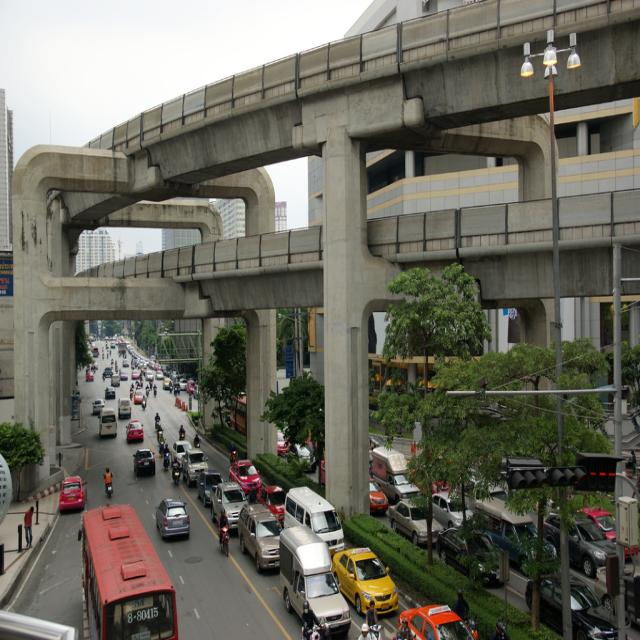car: (155, 496, 189, 539), (58, 474, 88, 513), (132, 447, 154, 473), (125, 419, 143, 442), (104, 384, 114, 396), (85, 369, 93, 380), (111, 375, 119, 384)
